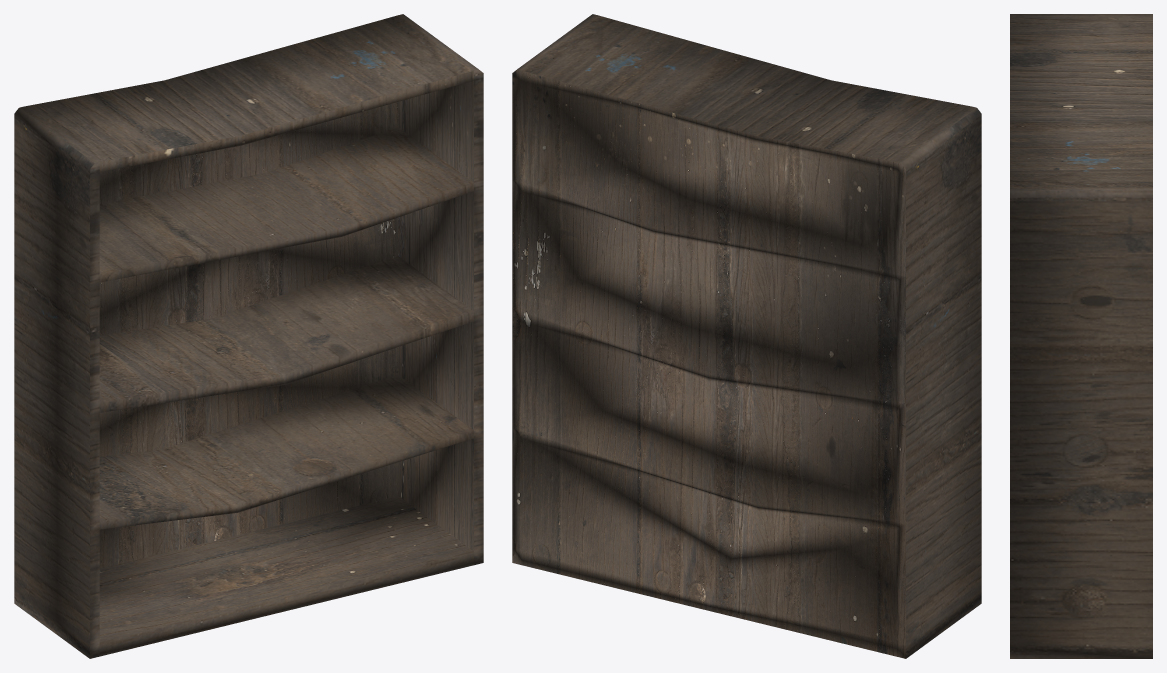
File: Kast.fbx
3 views of the same model, side by side, from view 1: azimuth 30°, elevation 25°; view 2: azimuth 150°, elevation 25°; view 3: azimuth 270°, elevation 25° (orthographic). The views are drawn at different scales.
Visible parts, largest first — view 1: Cube; view 2: Cube; view 3: Cube.
Boxes of the visible parts, box(x1,y1,x2,y2) form: Cube: box(14, 14, 483, 658); Cube: box(512, 14, 981, 658); Cube: box(1010, 14, 1152, 658).
Bounding box in the file's own units: 600 × 720 × 200.
